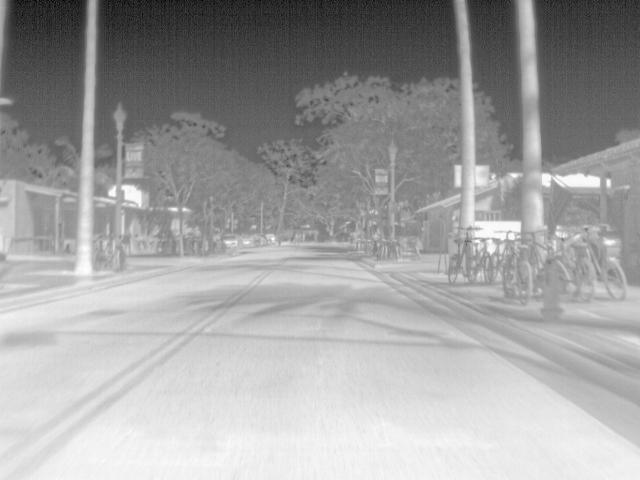car: (225, 234, 245, 250), (256, 234, 269, 246), (243, 236, 256, 248), (267, 232, 277, 244)
